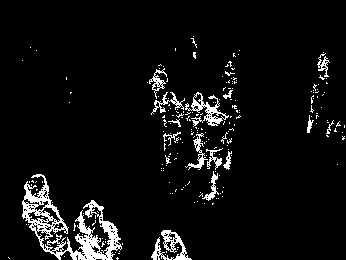person: (19, 174, 73, 260), (71, 199, 124, 260), (202, 94, 226, 203), (217, 87, 243, 173), (157, 92, 183, 162), (188, 94, 212, 169), (148, 62, 168, 117)
